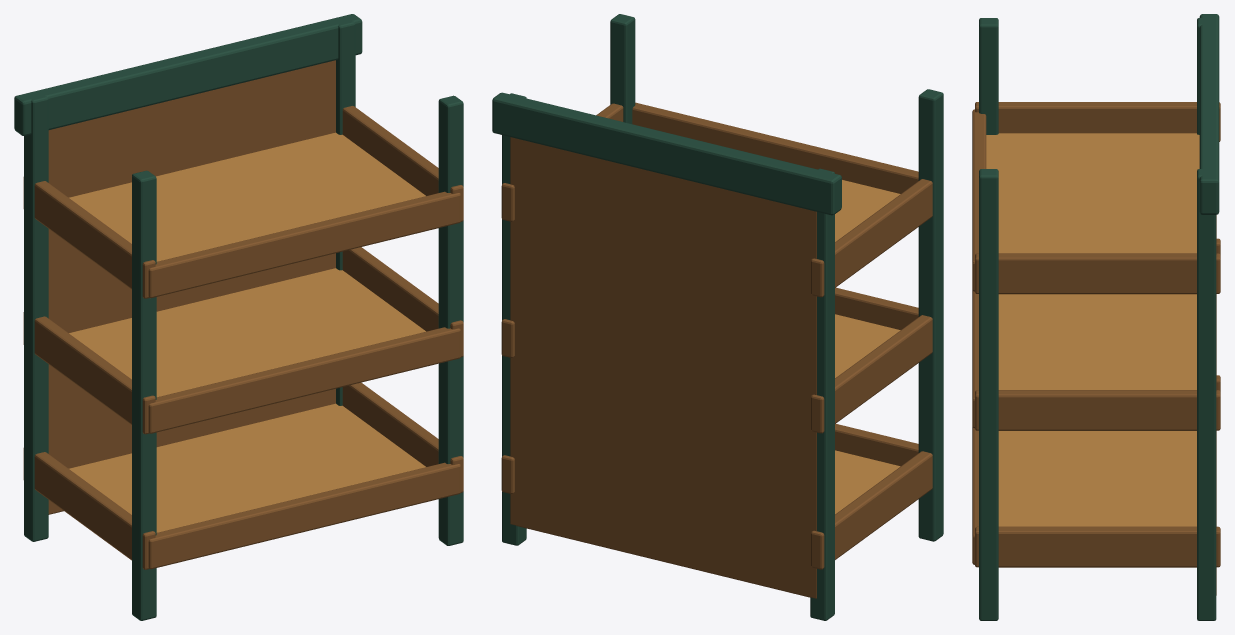
The model's file is snack_endcap.fbx.
3 views of the same model, side by side, from view 1: azimuth 30°, elevation 25°; view 2: azimuth 150°, elevation 25°; view 3: azimuth 270°, elevation 25° (orthographic).
Visible parts, largest first — view 1: snack_endcap; view 2: snack_endcap; view 3: snack_endcap.
Part boxes in pixels (x1,y1,x2,y2): snack_endcap: [14, 14, 463, 620]; snack_endcap: [492, 14, 943, 620]; snack_endcap: [972, 14, 1220, 620].
Size of the model in its own units: 71 by 88 by 44.45.
